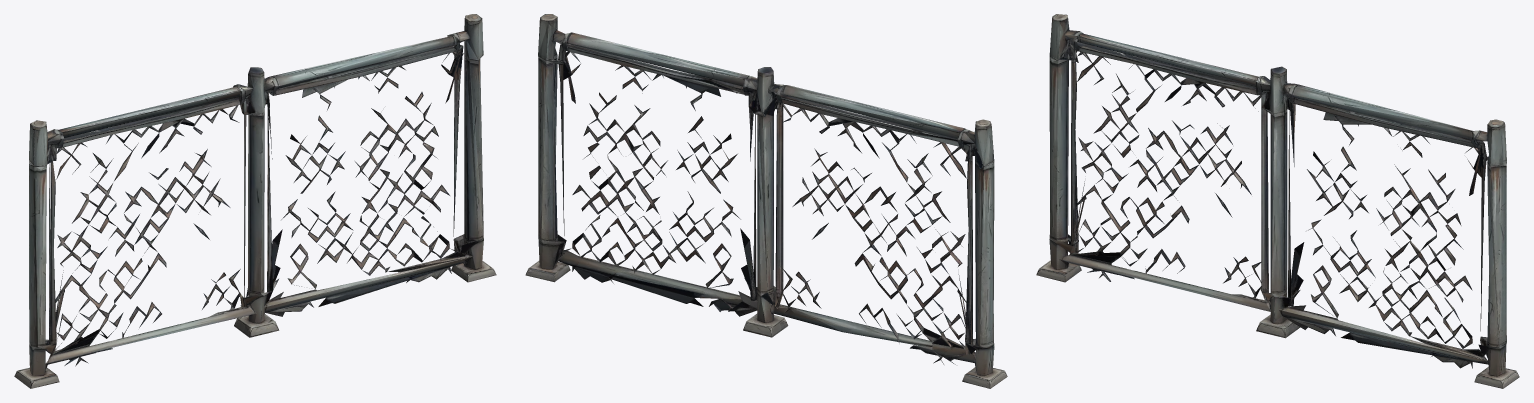
Rendered from fence.glb.
3 renders of one model, left to right at view 1: azimuth 30°, elevation 25°; view 2: azimuth 150°, elevation 25°; view 3: azimuth 330°, elevation 25°, orthographic.
Bounding box in the file's own units: 1.9 × 1.01 × 0.1201.
1 material, 1 textured.
